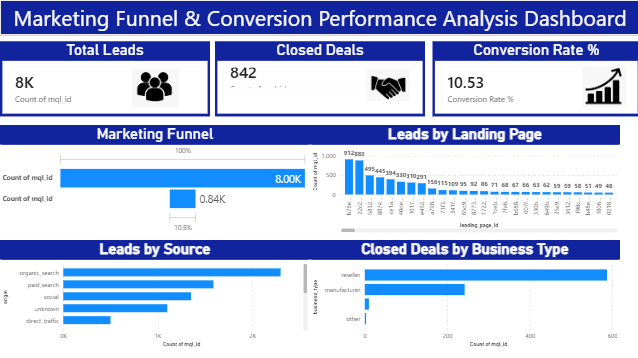

This screenshot's page, from the dashboard's own definition file:
{"tool":"powerbi","page":{"name":"Page 1","canvas":[1280,720],"ordinal":0},"visuals":[{"type":"textbox","box":[0,0,1280,70],"z":0},{"type":"cardVisual","title":"Total Leads","fields":{"Data":["CountNonNull(olist_marketing_qualified_leads_dataset.mql_id)"]},"box":[0,82.9,420,150],"z":1000},{"type":"cardVisual","title":"Closed Deals","fields":{"Data":["CountNonNull(olist_closed_deals_dataset.mql_id)"]},"box":[430,82.9,420,150],"z":2000},{"type":"cardVisual","title":"Conversion Rate %","fields":{"Data":["olist_closed_deals_dataset.Conversion Rate %"]},"box":[864.3,82.9,415.7,150],"z":3000},{"type":"funnel","title":"Marketing Funnel","fields":{"Y":["CountNonNull(olist_marketing_qualified_leads_dataset.mql_id)","CountNonNull(olist_closed_deals_dataset.mql_id)"]},"box":[0,250,620,220],"z":4000},{"type":"clusteredBarChart","title":"Leads by Source","fields":{"Category":["olist_marketing_qualified_leads_dataset.origin"],"Y":["CountNonNull(olist_marketing_qualified_leads_dataset.mql_id)"]},"box":[0,480,620,220],"z":5000},{"type":"clusteredColumnChart","title":"Leads by Landing Page","fields":{"Category":["olist_marketing_qualified_leads_dataset.landing_page_id"],"Y":["CountNonNull(olist_marketing_qualified_leads_dataset.mql_id)"]},"box":[620,250,620,220],"z":6000},{"type":"clusteredBarChart","title":"Closed Deals by Business Type","fields":{"Category":["olist_closed_deals_dataset.business_type"],"Y":["CountNonNull(olist_closed_deals_dataset.mql_id)"]},"box":[620,480,620,220],"z":7000},{"type":"image","box":[260,137.1,100,77.1],"z":8000},{"type":"image","box":[732.9,137.1,85.7,65.7],"z":8001},{"type":"image","box":[1165.7,132.9,87.1,81.4],"z":8002}]}

Visuals, with their boxes in screenshot pixels (x1, y1, x2, y2), scaled from the page's 1280x720 canvas onto the 638x358 screenshot:
textbox: [left=0, top=0, right=637, bottom=35]
"Total Leads" cardVisual: [left=0, top=41, right=209, bottom=116]
"Closed Deals" cardVisual: [left=214, top=41, right=424, bottom=116]
"Conversion Rate %" cardVisual: [left=431, top=41, right=637, bottom=116]
"Marketing Funnel" funnel: [left=0, top=124, right=309, bottom=234]
"Leads by Source" clusteredBarChart: [left=0, top=239, right=309, bottom=348]
"Leads by Landing Page" clusteredColumnChart: [left=309, top=124, right=618, bottom=234]
"Closed Deals by Business Type" clusteredBarChart: [left=309, top=239, right=618, bottom=348]
image: [left=130, top=68, right=179, bottom=107]
image: [left=365, top=68, right=408, bottom=101]
image: [left=581, top=66, right=624, bottom=107]
